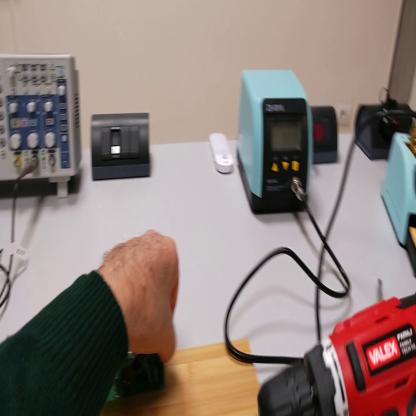electric screwdriver: (259, 293, 416, 415)
hand: (101, 227, 181, 365)
high voltage board: (109, 351, 175, 406)
oscilloscope: (1, 49, 84, 202)
socket: (358, 97, 413, 160), (313, 106, 339, 167)
welder base: (382, 100, 416, 278)
welder station: (235, 63, 313, 216)
working area: (103, 344, 267, 416)
